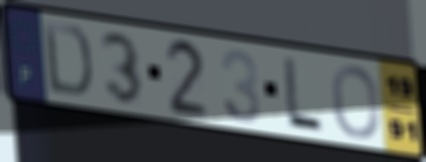2: (165, 36, 210, 123)
3: (98, 30, 146, 107), (219, 46, 262, 124)
D: (41, 18, 95, 100)
L: (281, 53, 326, 136)
O: (329, 63, 382, 141)
